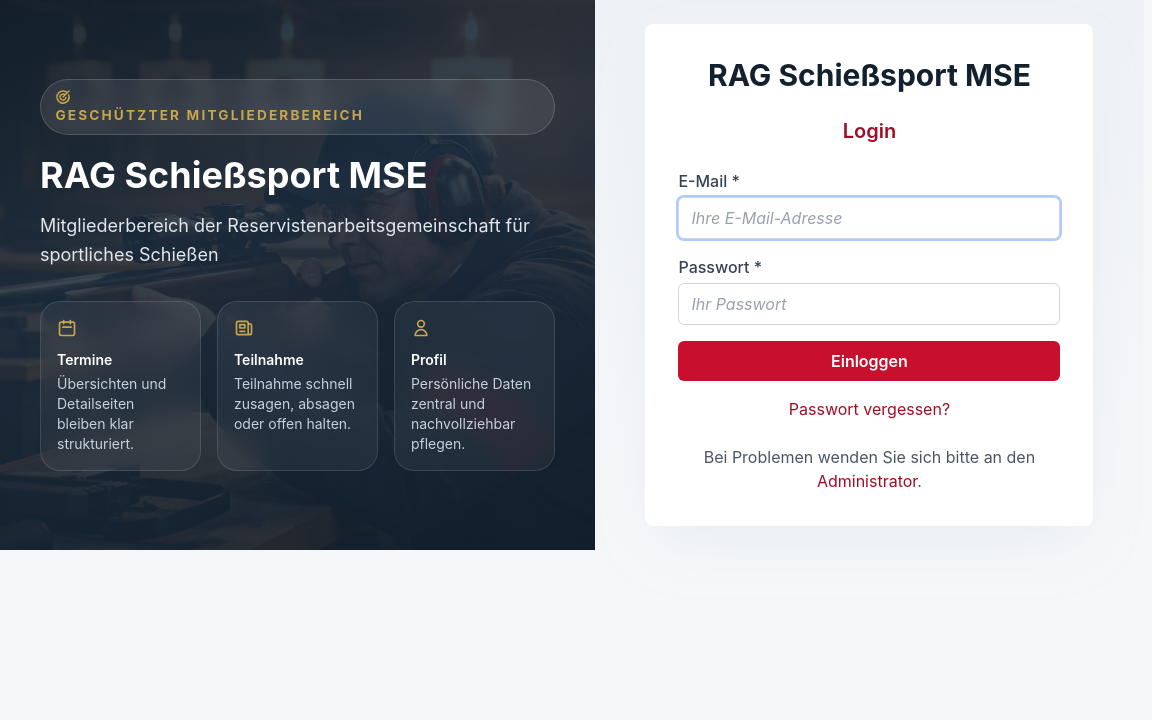
Test: LoginPage › Form Validation › should show generic error for password that fails authentication
Type "test@example.com" into the field labelled "E-Mail *" at (869, 218), box [678, 197, 1060, 239]
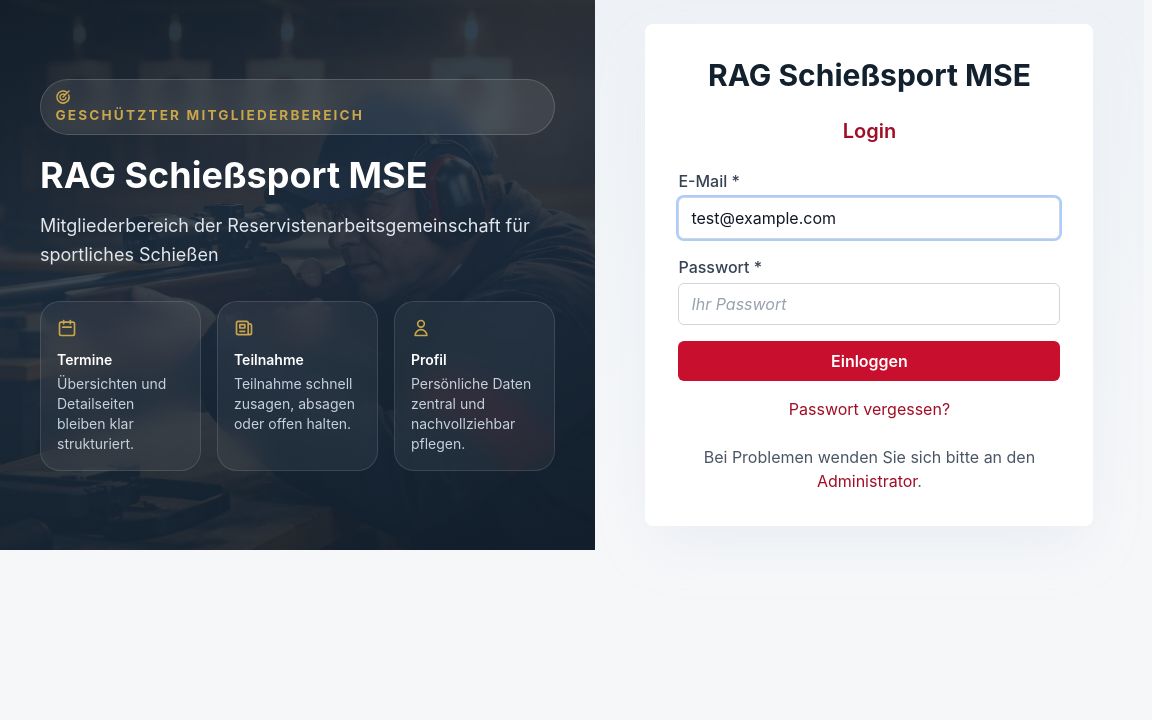
Type "weak" into the password field labelled "Passwort *" at (869, 304), box [678, 283, 1060, 325]
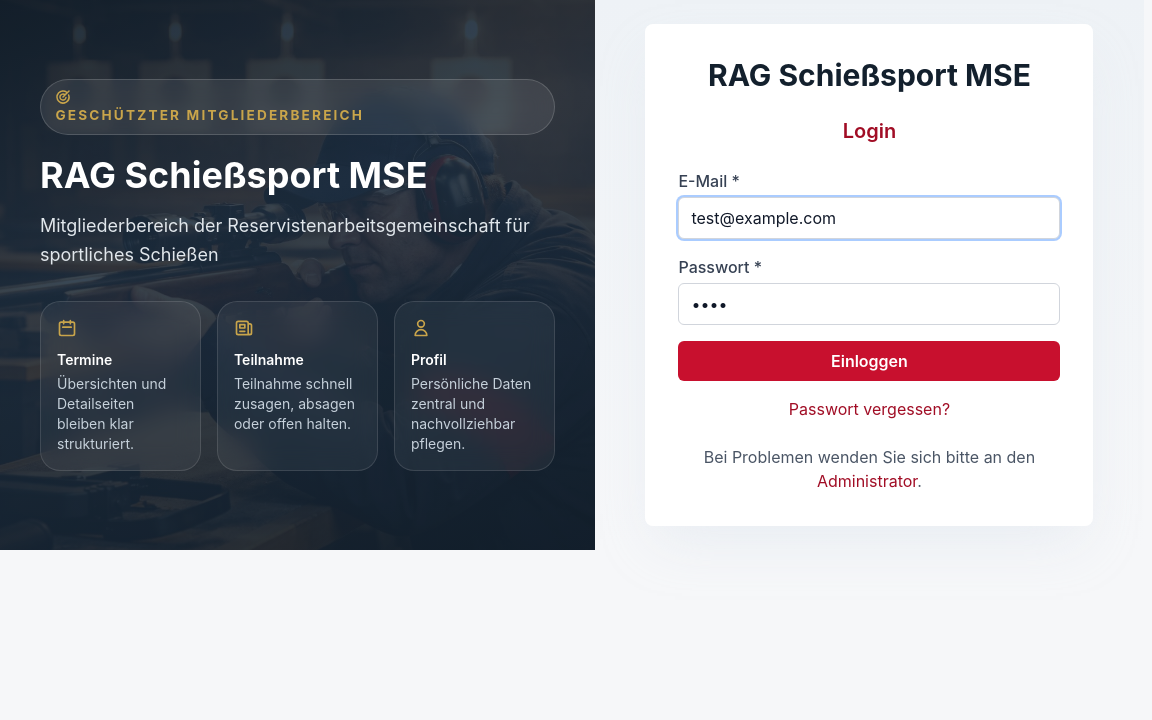
Click the button "Einloggen" at (869, 361), box [678, 341, 1060, 381]
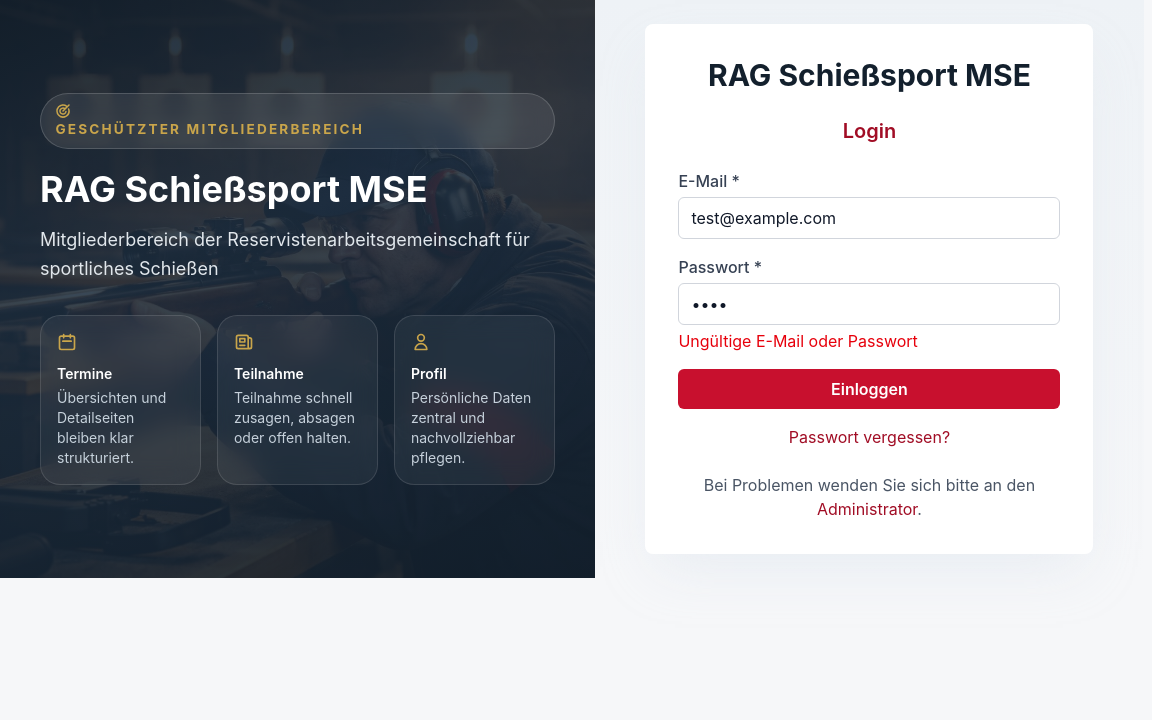
expect the text "Ungültige E-Mail oder Passwort" is shown: met, box [678, 331, 918, 351]
